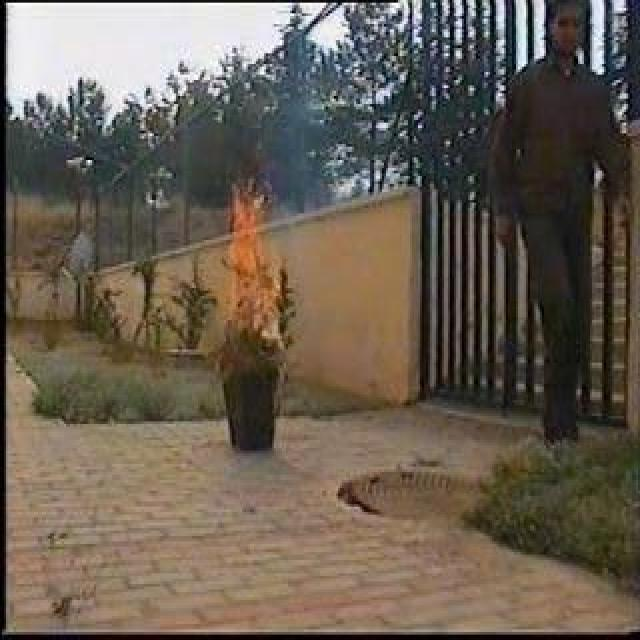fire: (223, 191, 268, 313)
